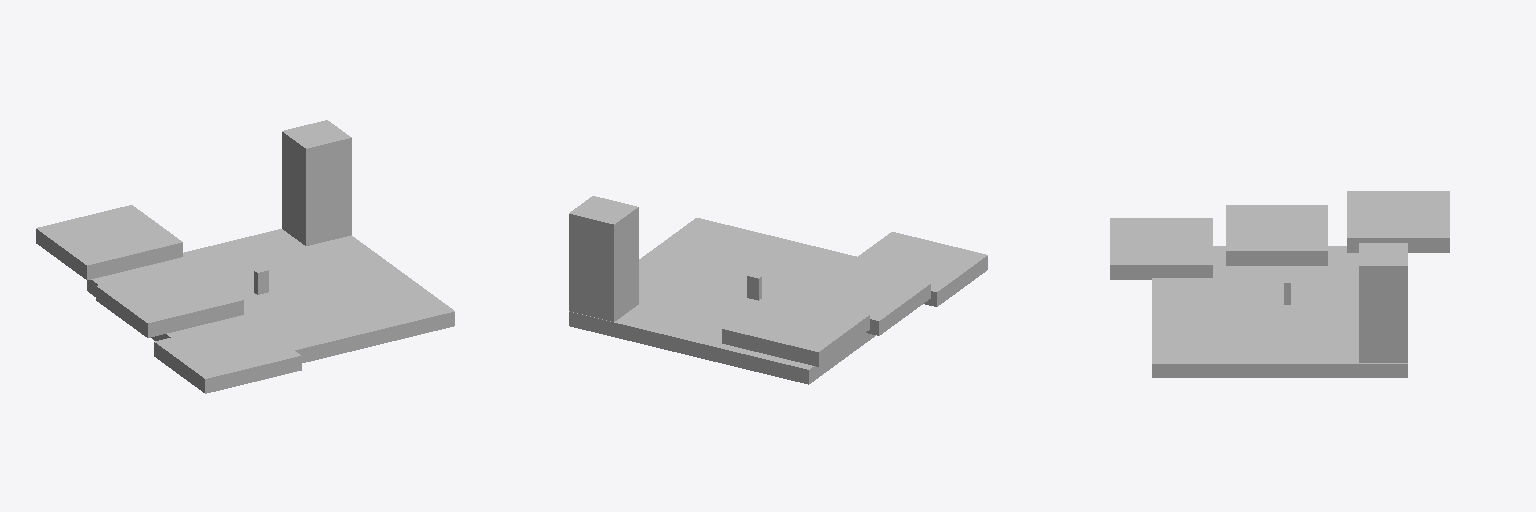
The model's file is lvltest.obj.
3 views of the same model, side by side, from view 1: azimuth 30°, elevation 25°; view 2: azimuth 150°, elevation 25°; view 3: azimuth 270°, elevation 25° (orthographic).
Parts seen in each view (by area): view 1: Cube, Cube.004, Cube.003, Cube.001, Cube.002; view 2: Cube, Cube.004, Cube.002, Cube.003, Cube.001; view 3: Cube, Cube.001, Cube.003, Cube.002, Cube.004.
Boxes of the visible parts, box(x1,y1,x2,y2) form: Cube: box(87, 229, 454, 362); Cube.004: box(282, 120, 351, 245); Cube.003: box(96, 263, 243, 337); Cube.001: box(154, 318, 301, 393); Cube.002: box(36, 205, 182, 279); Cube: box(569, 218, 875, 384); Cube.004: box(569, 196, 638, 321); Cube.002: box(722, 291, 869, 366); Cube.003: box(788, 260, 930, 335); Cube.001: box(848, 232, 987, 306); Cube: box(1152, 246, 1407, 377); Cube.001: box(1110, 218, 1212, 279); Cube.003: box(1226, 205, 1327, 265); Cube.002: box(1347, 191, 1449, 252); Cube.004: box(1359, 243, 1407, 362).
Size of the model in its own units: 10.57 by 4.2 by 11.47.